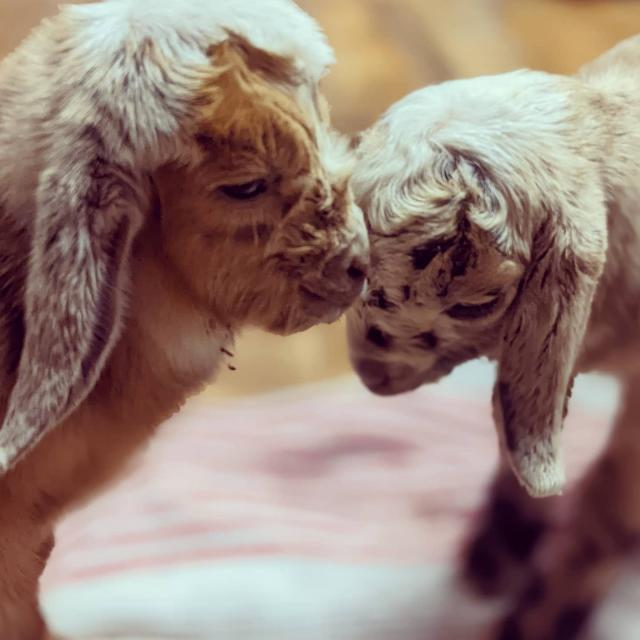goat: (0, 4, 360, 640), (349, 1, 636, 640)
